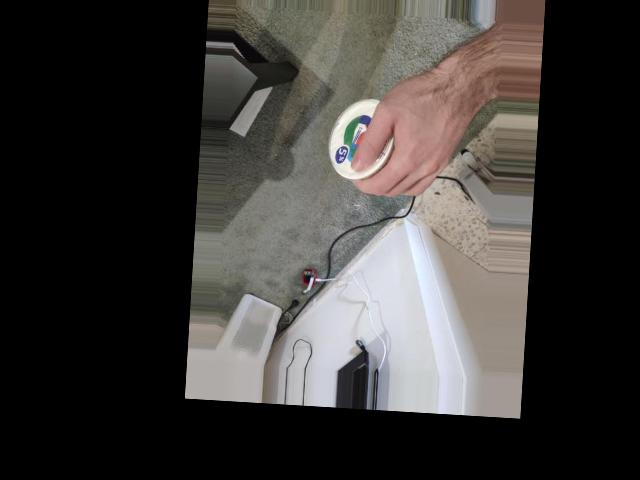cotage: (326, 96, 403, 183)
